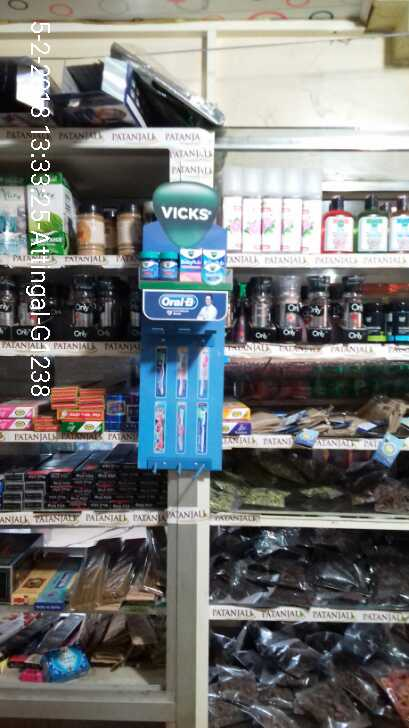oralb: (159, 251, 179, 280)
pharmacy: (139, 250, 158, 279)
